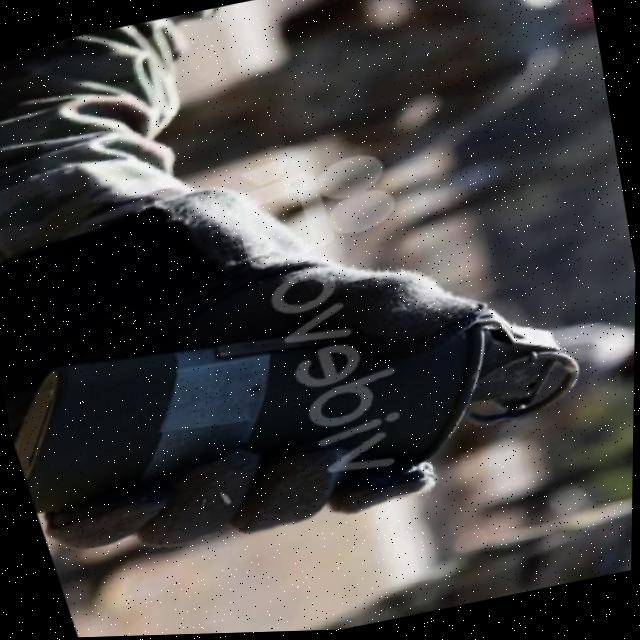grenade: (0, 181, 617, 612)
